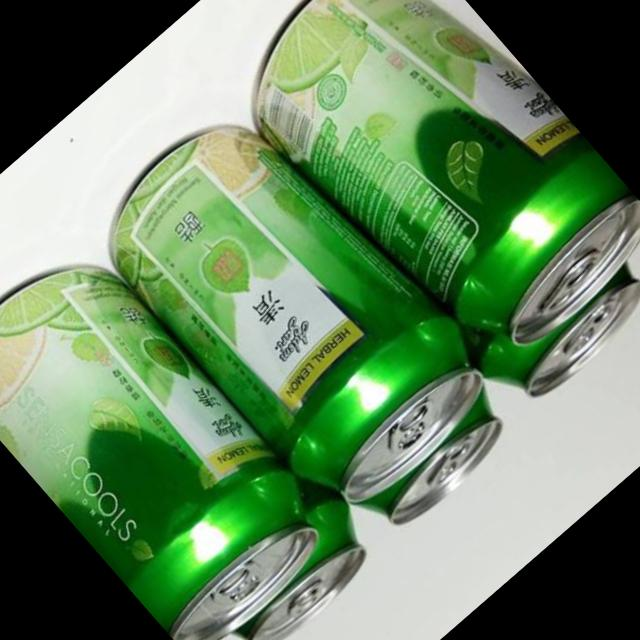ademsarikaleng: (80, 81, 514, 534), (214, 0, 640, 394), (0, 228, 350, 640)
